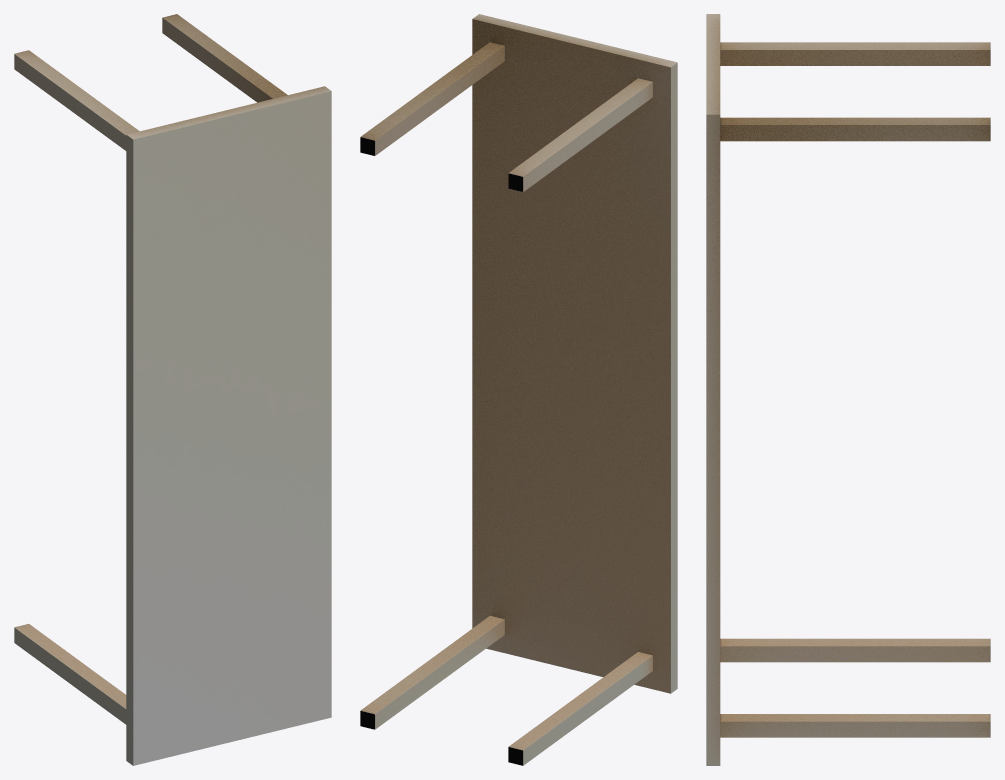
The model's file is E4_table_big.obj.
The picture shows the model from 3 angles, left to right: view 1: azimuth 30°, elevation 25°; view 2: azimuth 150°, elevation 25°; view 3: azimuth 270°, elevation 25°; orthographic projection. The views are drawn at different scales.
Visible parts, largest first — view 1: E4_table_big.001; view 2: E4_table_big.001; view 3: E4_table_big.001.
Boxes of the visible parts, left/top/right/bottom form: E4_table_big.001: left=14, top=14, right=331, bottom=765; E4_table_big.001: left=360, top=14, right=677, bottom=765; E4_table_big.001: left=706, top=14, right=990, bottom=765.
Bounding box in the file's own units: 0.67 × 2.02 × 0.8.
Materials: 1 (1 with a texture image).
